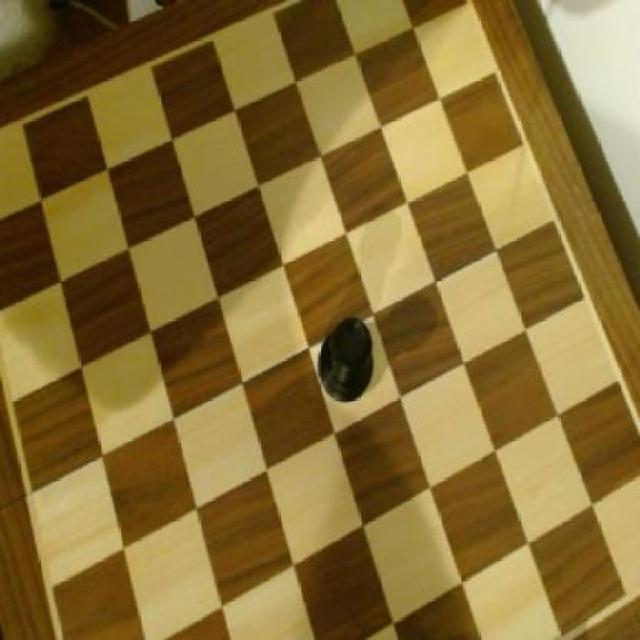black-queen: (320, 314, 377, 404)
